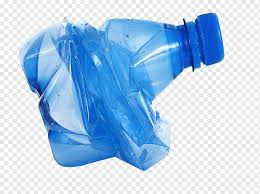available: (20, 8, 229, 178)
